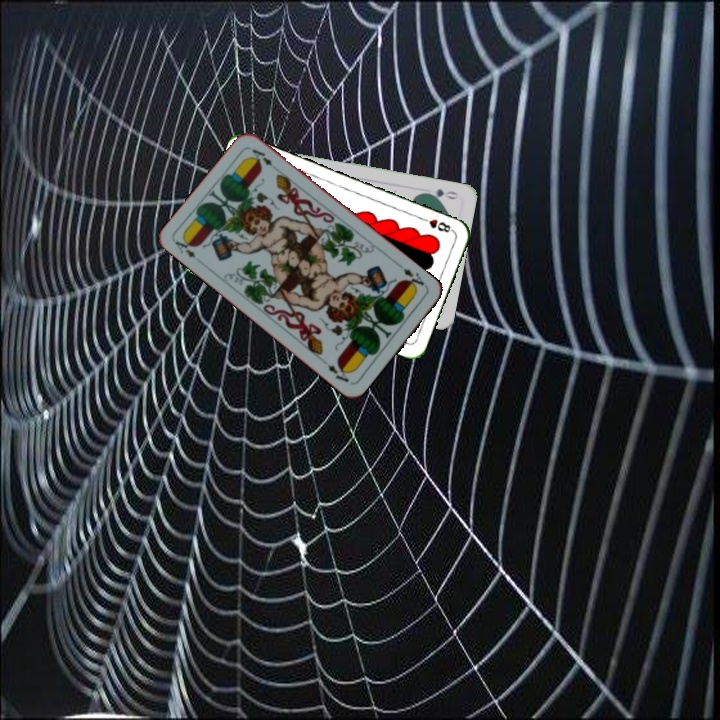EA: (399, 264, 430, 293), (171, 233, 198, 261)
GO: (420, 184, 461, 202)
H8: (417, 213, 456, 235)
